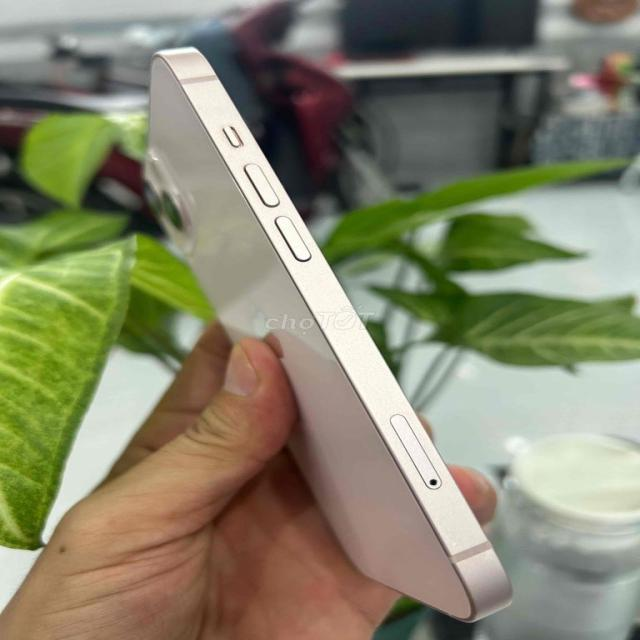gen_12_13: (133, 34, 518, 623)
